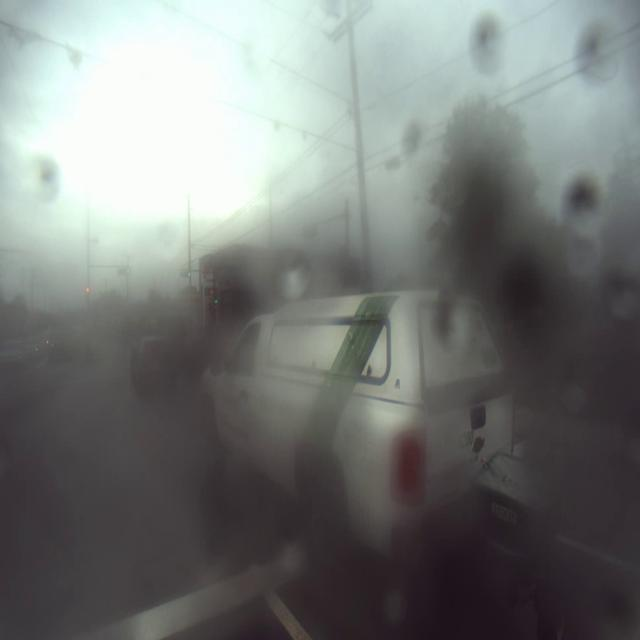car: (202, 307, 518, 540)
truck: (128, 332, 174, 390)
